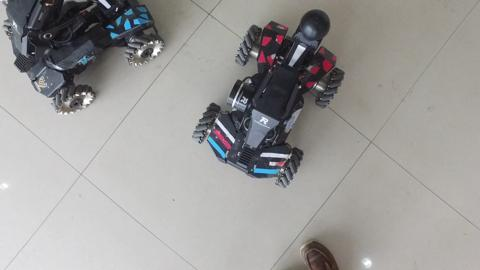chariot: (188, 7, 349, 191), (1, 1, 170, 122)
